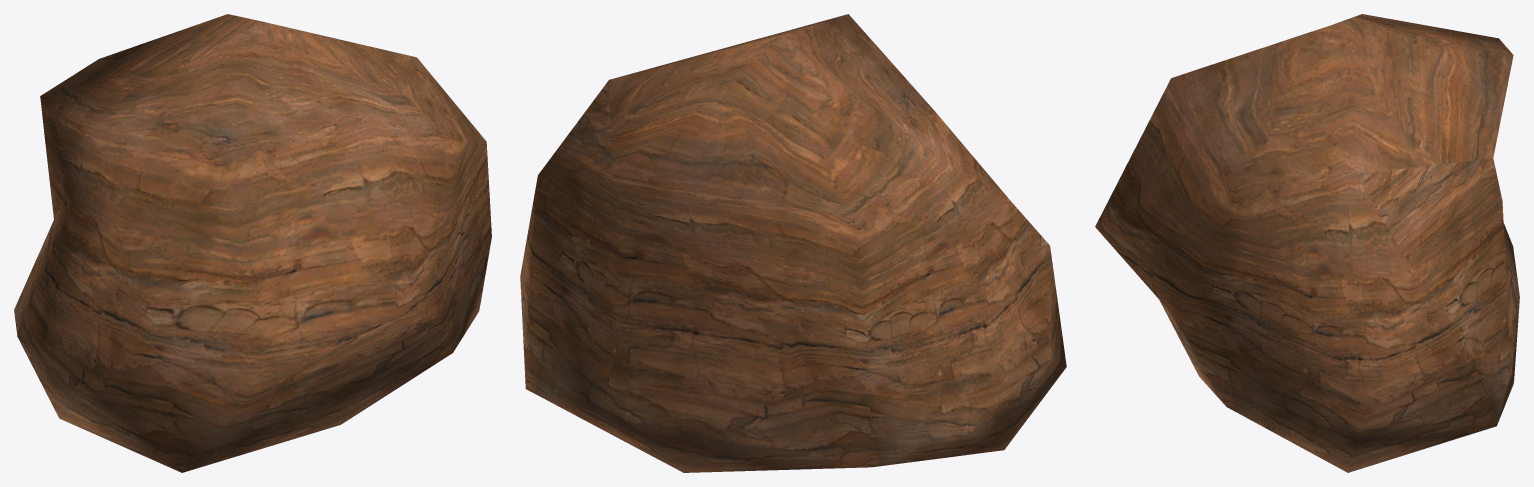
File: rock_tatt_jundland_boulder_a4_l3.fbx
The picture shows the model from 3 angles, left to right: view 1: azimuth 30°, elevation 25°; view 2: azimuth 150°, elevation 25°; view 3: azimuth 270°, elevation 25°; orthographic projection. The views are drawn at different scales.
Visible parts, largest first — view 1: mesh_node; view 2: mesh_node; view 3: mesh_node.
Part boxes in pixels (box(x1,y1,x2,y2)): mesh_node: box(14, 14, 491, 472); mesh_node: box(520, 14, 1066, 472); mesh_node: box(1095, 14, 1519, 472).
Size of the model in its own units: 2.67 by 2.11 by 2.15.
